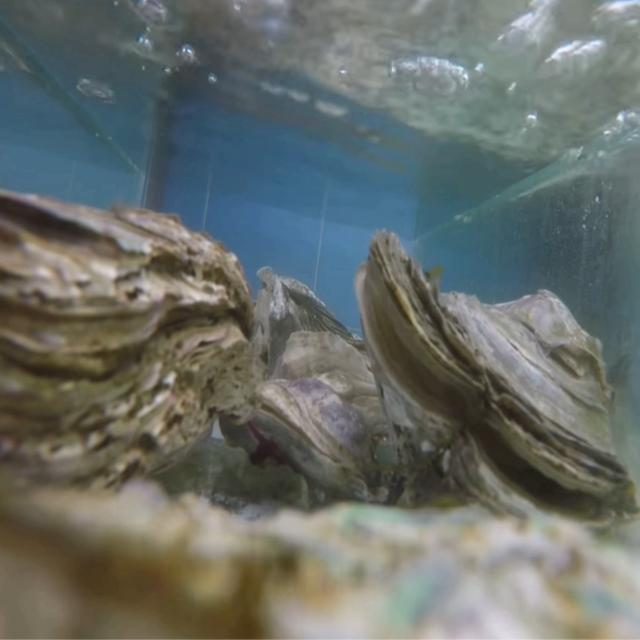Oyster-Closed: (0, 189, 256, 526), (251, 332, 417, 507)
Oyster-Indeterminate: (0, 479, 640, 640)
Oyster-Open: (354, 229, 640, 540)
